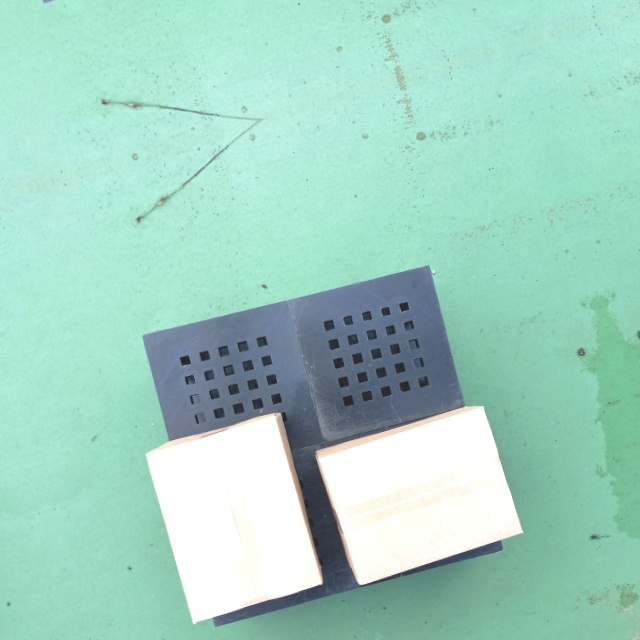box: (311, 401, 526, 589), (144, 411, 325, 627)
